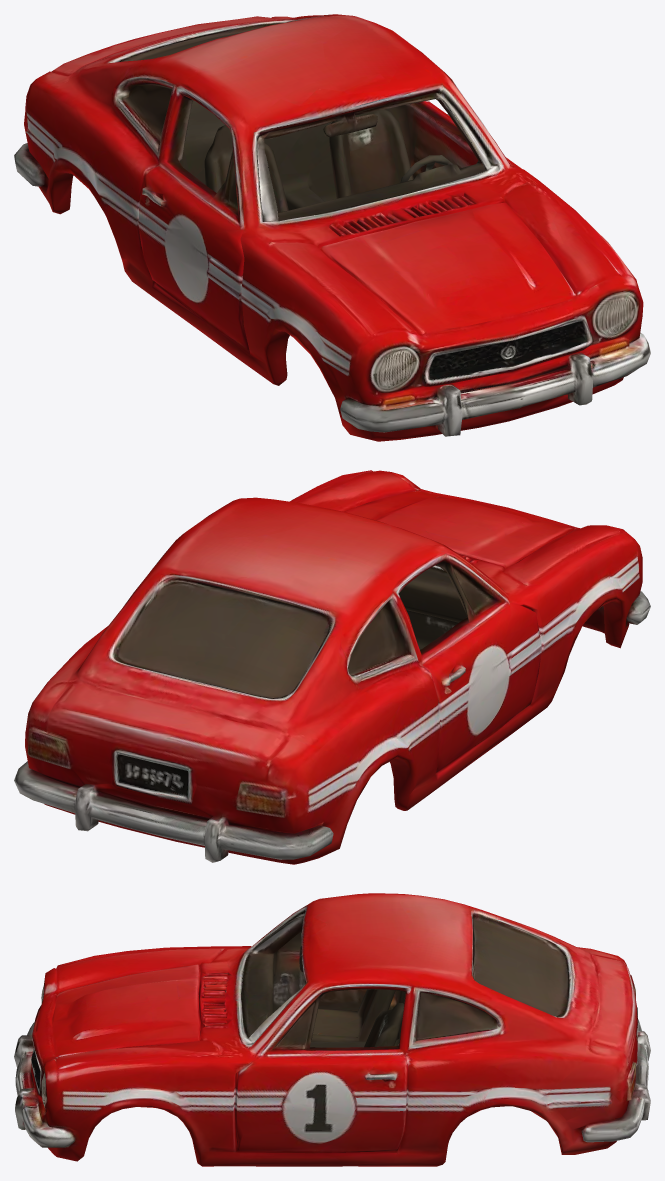
Rendered from car-flitzer.glb.
3 views of the same model, one above another, from view 1: azimuth 30°, elevation 25°; view 2: azimuth 150°, elevation 25°; view 3: azimuth 270°, elevation 25° (orthographic). The views are drawn at different scales.
Visible parts, largest first — view 1: tripo_node_6ef8e170-0ad1-409d-a95a-6ffe88bab0c5; view 2: tripo_node_6ef8e170-0ad1-409d-a95a-6ffe88bab0c5; view 3: tripo_node_6ef8e170-0ad1-409d-a95a-6ffe88bab0c5.
Part boxes in pixels (<box>): tripo_node_6ef8e170-0ad1-409d-a95a-6ffe88bab0c5: <box>14,14,650,441</box>; tripo_node_6ef8e170-0ad1-409d-a95a-6ffe88bab0c5: <box>14,470,650,864</box>; tripo_node_6ef8e170-0ad1-409d-a95a-6ffe88bab0c5: <box>14,893,650,1166</box>.
Bounding box in the file's own units: 0.4728 × 0.3182 × 1.
Materials: 1 (1 with a texture image).
